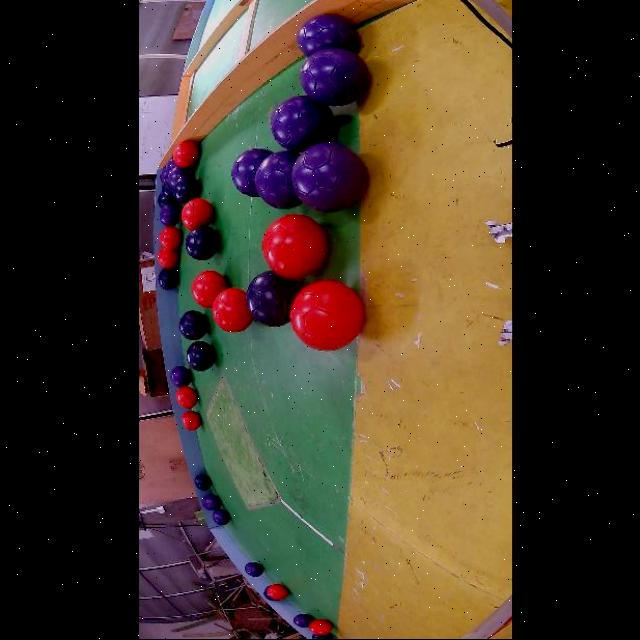B: (245, 270, 298, 327), (184, 226, 218, 261), (184, 342, 214, 371), (177, 310, 206, 340), (171, 175, 198, 204), (157, 269, 177, 291), (193, 475, 210, 491), (155, 194, 174, 208), (159, 182, 172, 197), (262, 587, 274, 603), (310, 634, 331, 640)
P: (290, 142, 366, 213), (298, 48, 368, 106), (268, 96, 333, 152), (296, 14, 359, 57), (254, 151, 299, 209), (229, 148, 271, 197), (166, 166, 191, 188), (158, 204, 180, 227), (168, 366, 189, 388), (199, 496, 220, 512), (210, 509, 229, 526), (242, 562, 262, 578), (292, 614, 312, 629), (163, 158, 174, 173), (158, 175, 164, 183), (160, 170, 166, 178)
R: (289, 281, 361, 351), (261, 214, 325, 279), (211, 288, 251, 332), (189, 271, 224, 308), (180, 199, 211, 230), (171, 142, 197, 168), (158, 227, 180, 251), (155, 248, 177, 269), (175, 387, 196, 409), (180, 412, 199, 431), (307, 621, 331, 636), (266, 584, 286, 601)
